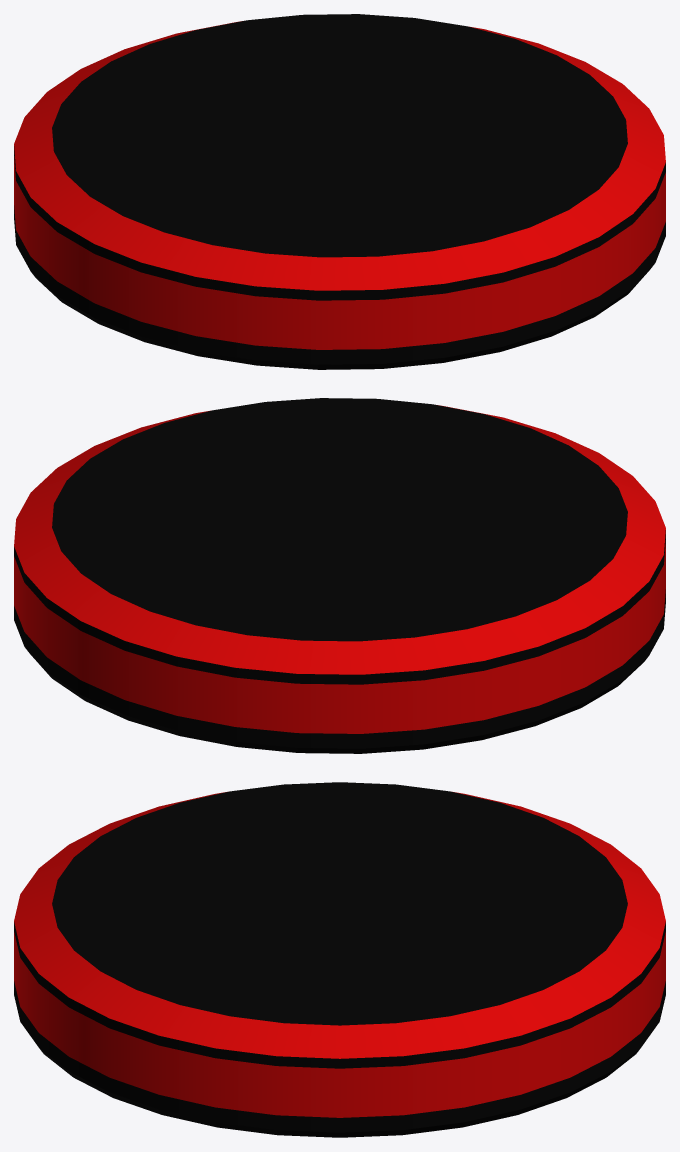
File: SM_PlaceholderMannequin_Base.fbx
The picture shows the model from 3 angles, top to bottom: view 1: azimuth 30°, elevation 25°; view 2: azimuth 150°, elevation 25°; view 3: azimuth 270°, elevation 25°; orthographic projection.
Visible parts, largest first — view 1: SM_PlaceholderMannequin_Base; view 2: SM_PlaceholderMannequin_Base; view 3: SM_PlaceholderMannequin_Base.
Boxes of the visible parts, x1,y1,x2,y2 form: SM_PlaceholderMannequin_Base: [14, 14, 665, 369]; SM_PlaceholderMannequin_Base: [14, 398, 665, 753]; SM_PlaceholderMannequin_Base: [14, 782, 665, 1137].
Bounding box in the file's own units: 24 × 24 × 4.
